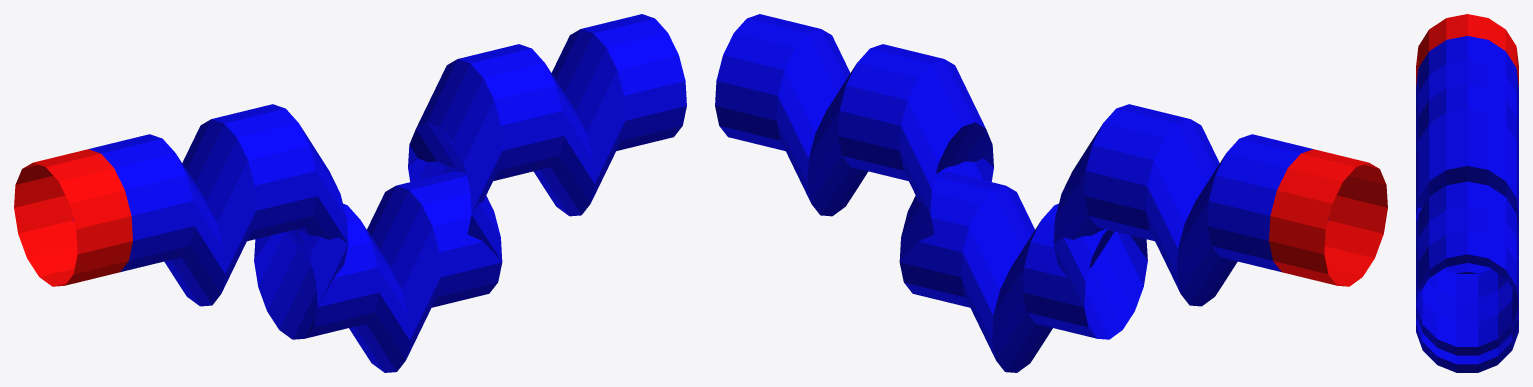
The model's file is Fractal_3_3d.obj.
3 renders of one model, left to right at view 1: azimuth 30°, elevation 25°; view 2: azimuth 150°, elevation 25°; view 3: azimuth 270°, elevation 25°, orthographic. The views are drawn at different scales.
Parts seen in each view (by area): view 1: material_b, material_r; view 2: material_b, material_r; view 3: material_b, material_r.
Boxes of the visible parts, left/top/right/bottom form: material_b: left=73, top=14, right=686, bottom=372; material_r: left=14, top=149, right=132, bottom=286; material_b: left=715, top=14, right=1328, bottom=372; material_r: left=1269, top=149, right=1387, bottom=286; material_b: left=1416, top=36, right=1518, bottom=372; material_r: left=1416, top=14, right=1518, bottom=86.
Bounding box in the file's own units: 1100 × 486 × 199.
